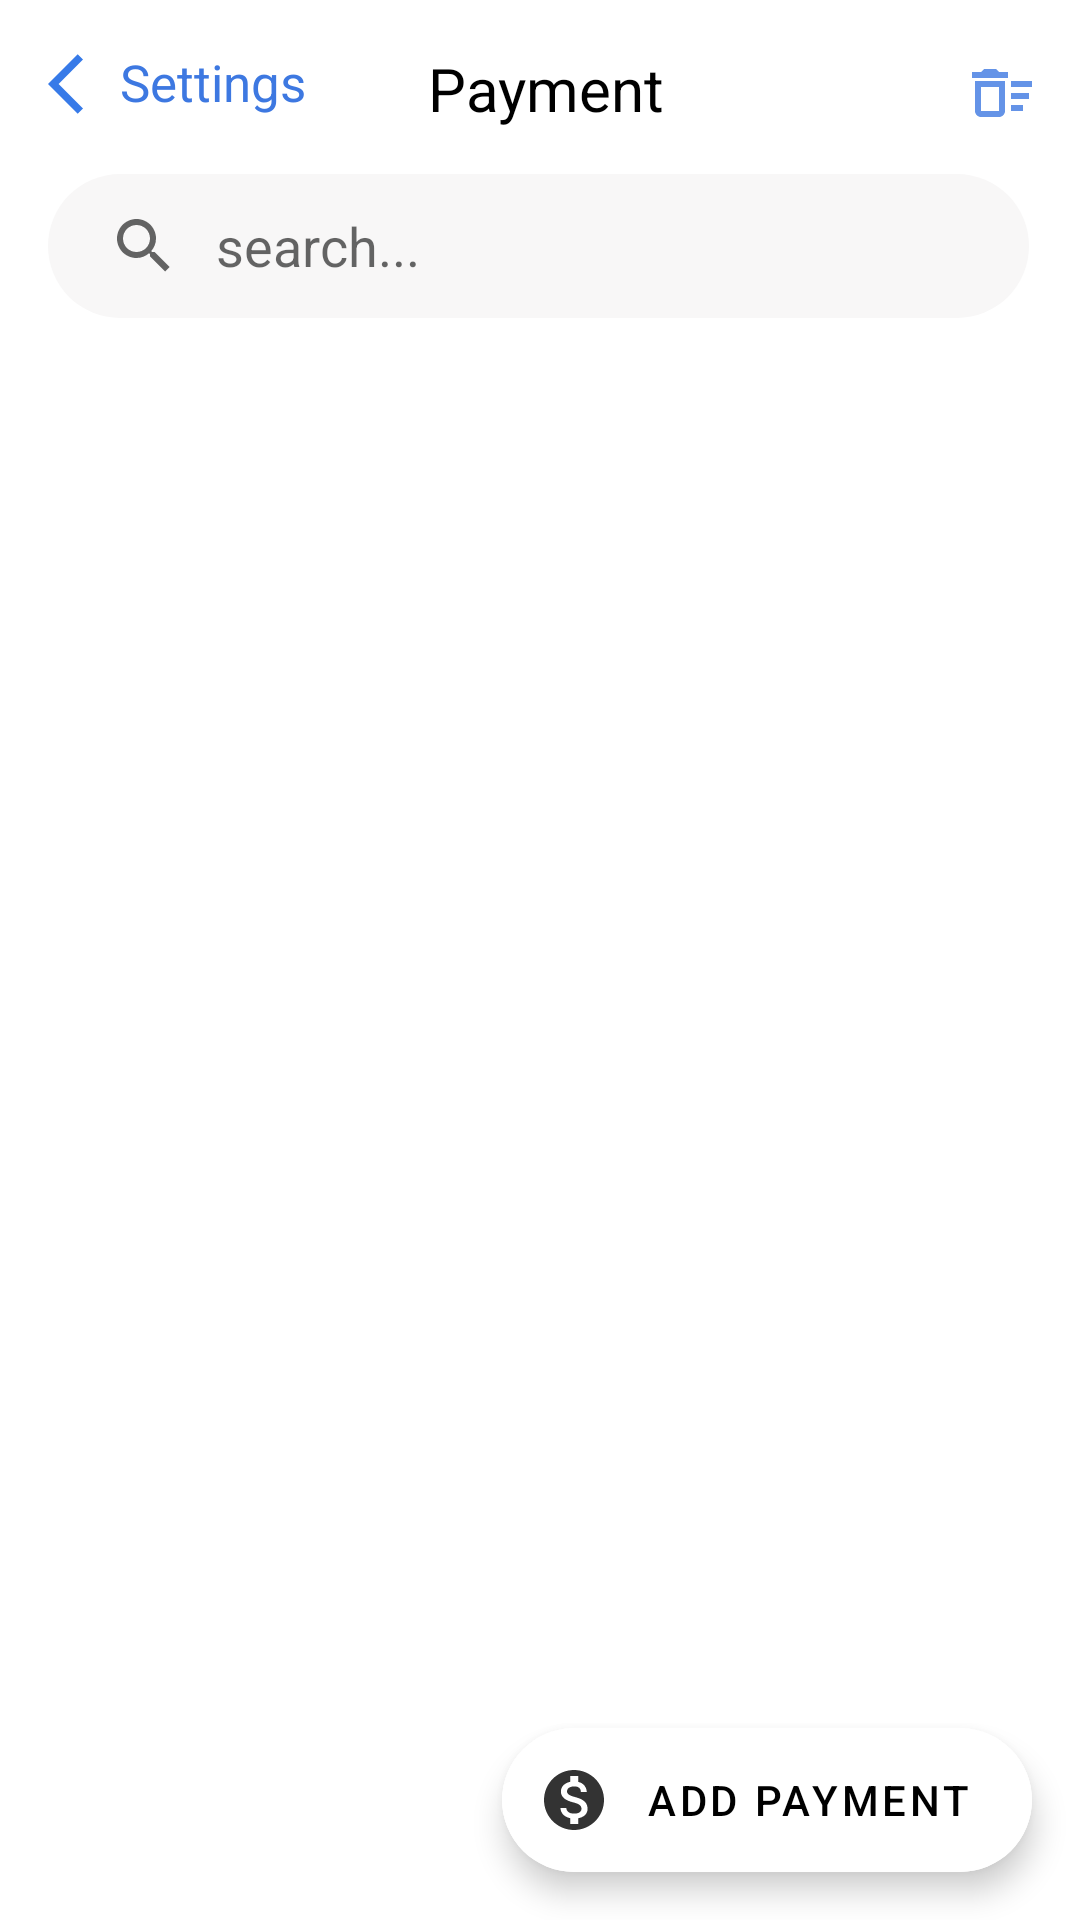

Named icons in this screenshot (1080 x 1920) and their centers, point (x, y):
back: point (65, 84)
delete all: point (1002, 93)
